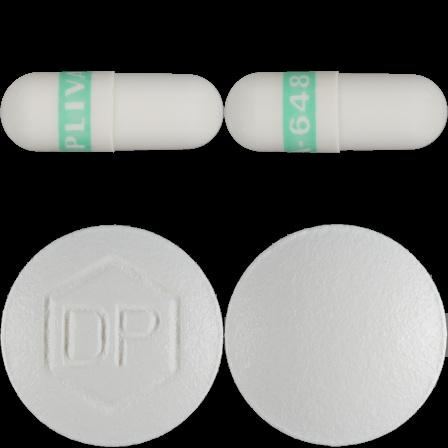66116-467: (0, 0, 224, 224)
